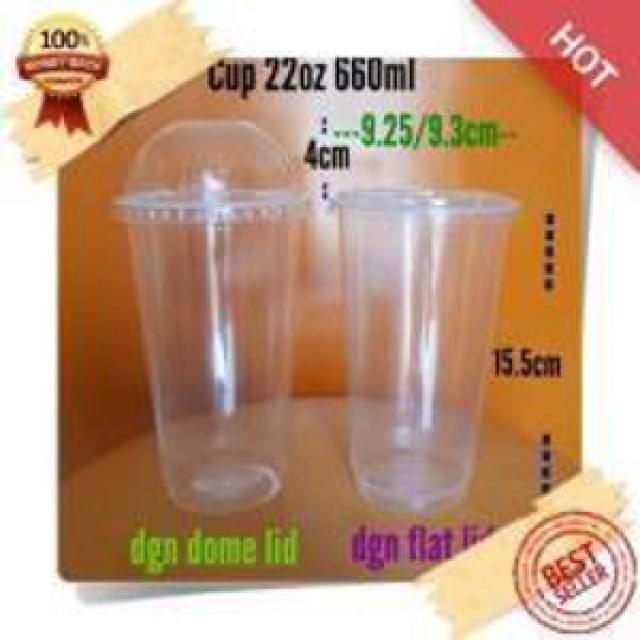plastic cup: (109, 115, 318, 516), (322, 181, 531, 514)
